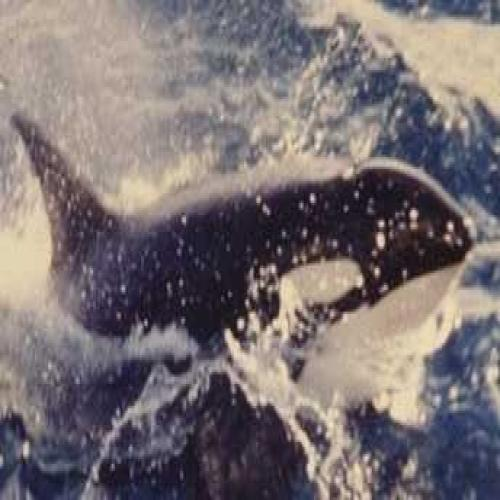killer_whale-endangered: (5, 89, 475, 416)
